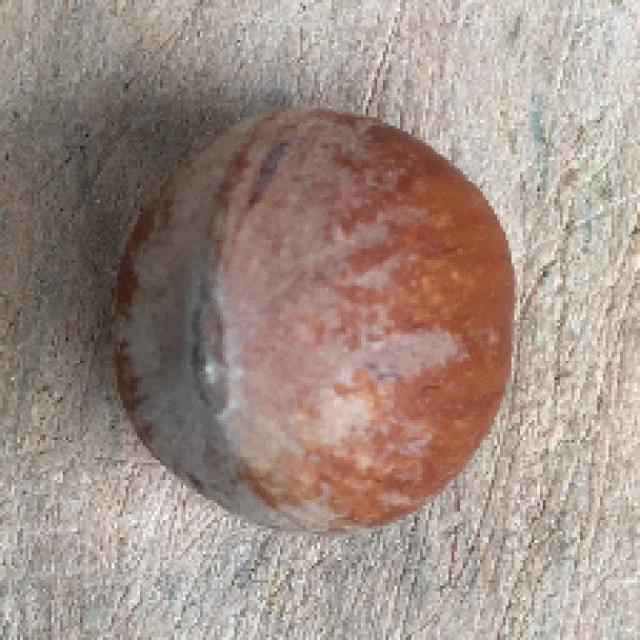QualityHazelnut: (109, 105, 523, 537)
